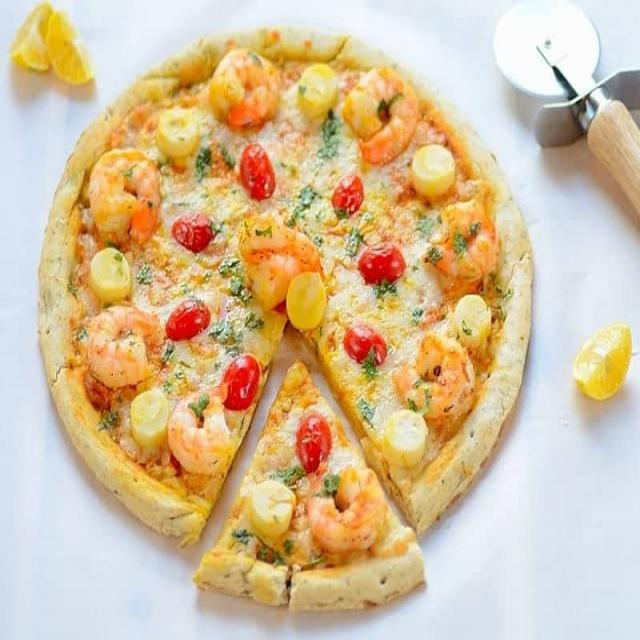camarao: (233, 217, 324, 301), (392, 330, 474, 422), (84, 300, 165, 393), (86, 151, 164, 246), (307, 465, 388, 551), (344, 68, 418, 162), (428, 195, 504, 285), (210, 47, 282, 128), (166, 388, 232, 470)
pizza: (34, 36, 530, 610)
